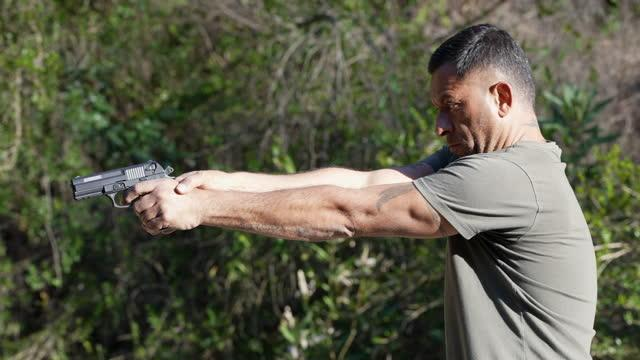handgun: (66, 156, 180, 214)
